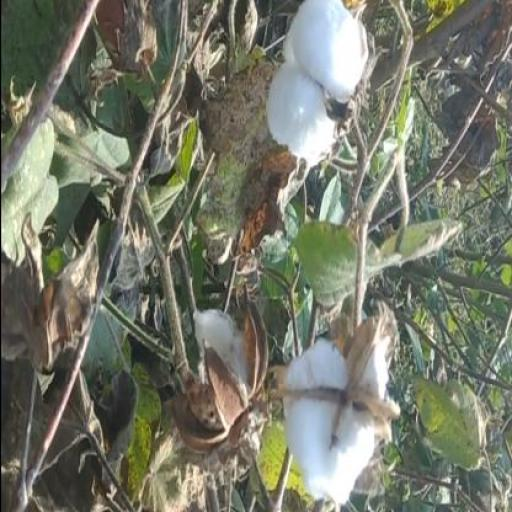cotton_ready: (263, 284, 416, 496), (254, 6, 382, 176)
